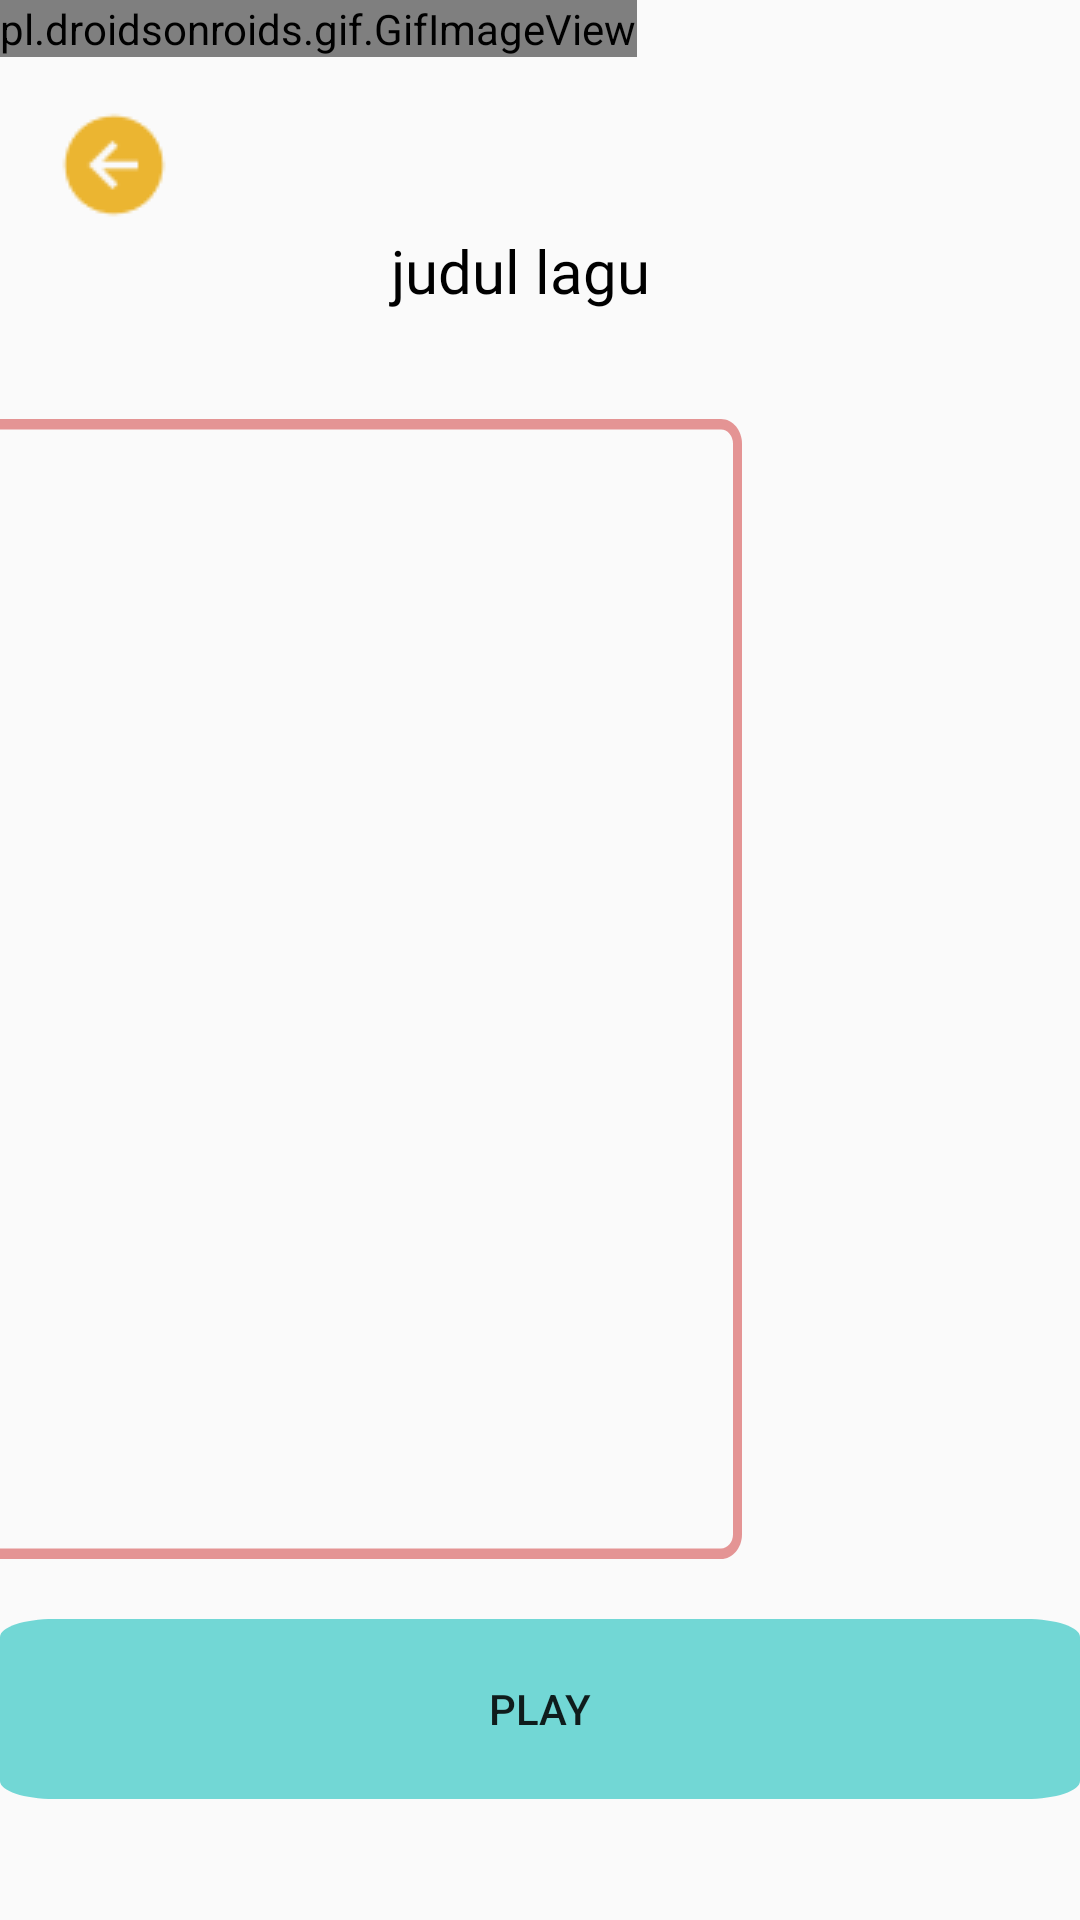

Point at icon controls on the screen. Image size 1080x1920, points as (x=x, y=y).
keluar: (x=114, y=165)
